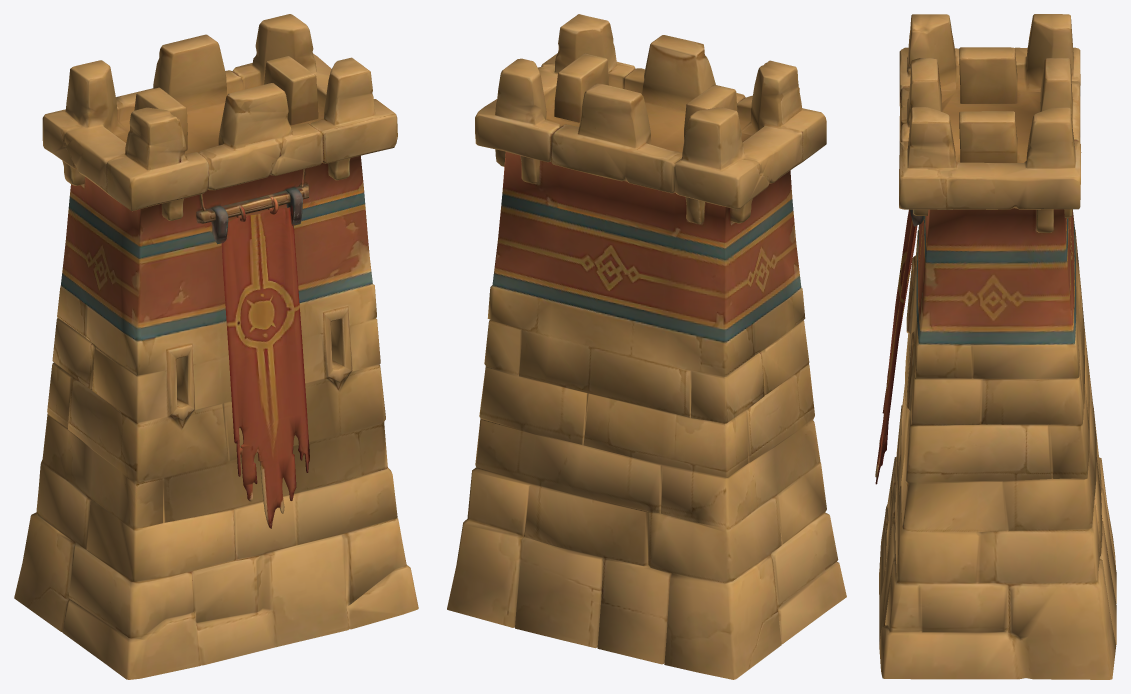
File: SM_Tripo_DesertCornerTower.glb
3 views of the same model, side by side, from view 1: azimuth 30°, elevation 25°; view 2: azimuth 150°, elevation 25°; view 3: azimuth 270°, elevation 25° (orthographic).
Parts seen in each view (by area): view 1: SM_Tripo_DesertCornerTower_LOD0; view 2: SM_Tripo_DesertCornerTower_LOD0; view 3: SM_Tripo_DesertCornerTower_LOD0.
Part boxes in pixels (x1,y1,x2,y2): SM_Tripo_DesertCornerTower_LOD0: [14, 14, 418, 679]; SM_Tripo_DesertCornerTower_LOD0: [447, 14, 846, 679]; SM_Tripo_DesertCornerTower_LOD0: [875, 14, 1116, 679].
Size of the model in its own units: 7.39 by 13 by 5.25.
Materials: 1 (1 with a texture image).
